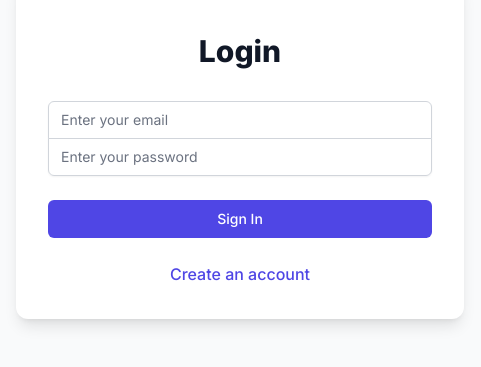
LoginPage › handles login failure with 401 error
Type "test@example.com" into the field with placeholder "Enter your email". click: (240, 120)
box: [48,101,432,139]
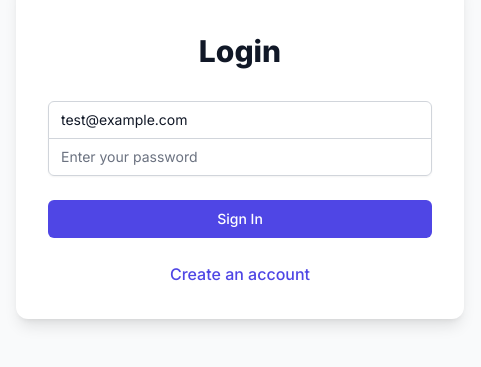
Type "wrongpassword" into the password field with placeholder "Enter your password". click: (240, 157)
box: [48,138,432,176]
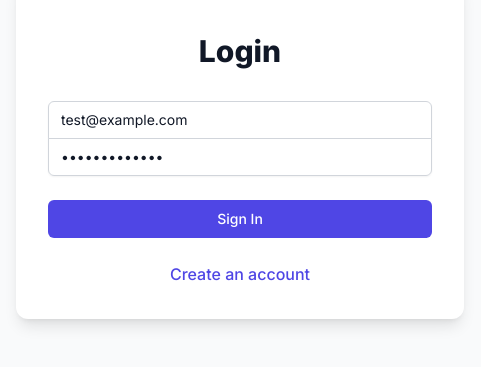
Click the button "Sign In". click: click(240, 219)
box: [48,200,432,238]
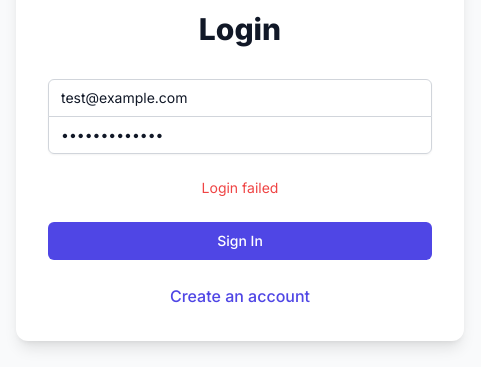
expect the text "Login failed" is shown: met, box [202,179,278,196]
